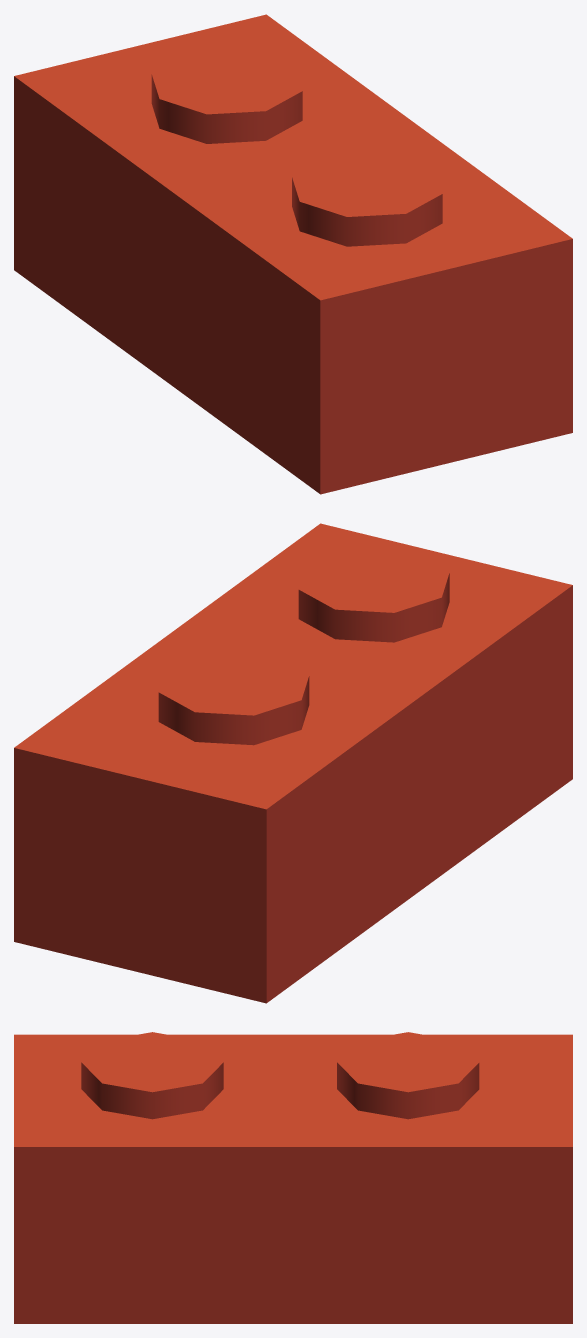
The model's file is human-toys-toy-brick_v5.glb.
3 views of the same model, one above another, from view 1: azimuth 30°, elevation 25°; view 2: azimuth 150°, elevation 25°; view 3: azimuth 270°, elevation 25° (orthographic). The views are drawn at different scales.
Parts seen in each view (by area): view 1: Toy Brick_v5; view 2: Toy Brick_v5; view 3: Toy Brick_v5.
Part boxes in pixels (bbox=[...]): Toy Brick_v5: bbox=[14, 14, 572, 494]; Toy Brick_v5: bbox=[14, 523, 572, 1003]; Toy Brick_v5: bbox=[14, 1032, 572, 1323].
Size of the model in its own units: 0.0143 by 0.0123 by 0.03.
